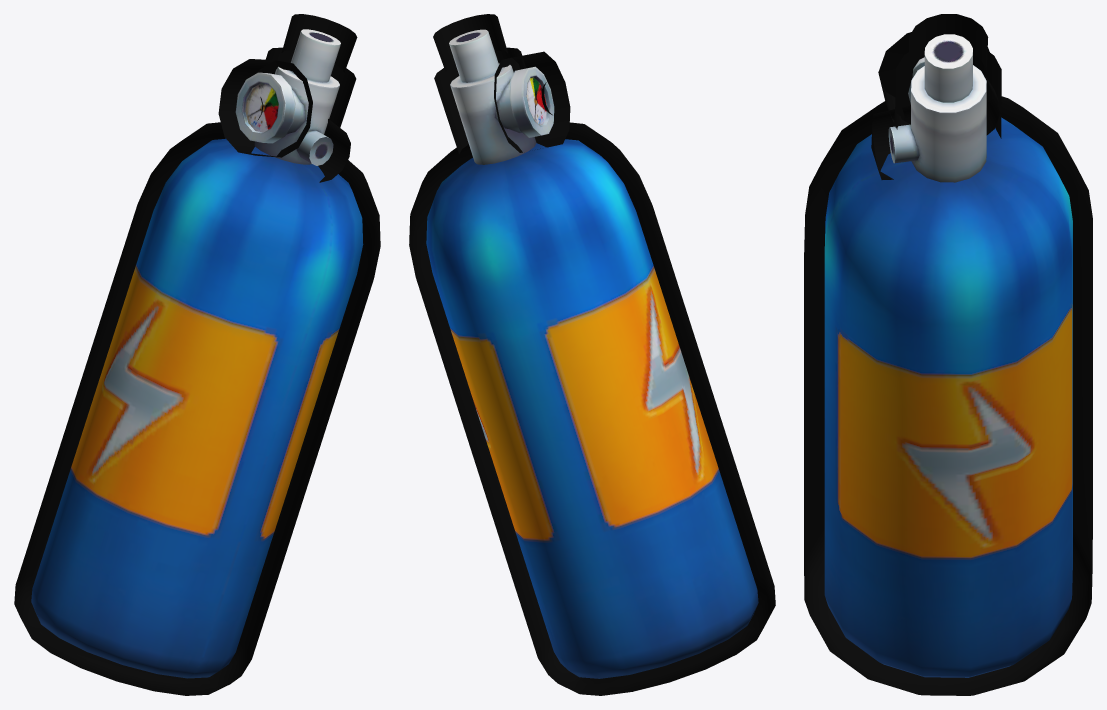
File: boost can (1).fbx
3 views of the same model, side by side, from view 1: azimuth 30°, elevation 25°; view 2: azimuth 150°, elevation 25°; view 3: azimuth 270°, elevation 25° (orthographic). The views are drawn at different scales.
Parts seen in each view (by area): view 1: OT_Boost_Mesh_OT_Boost_MAT_0, Pickup_Boost_PFXOutline_MESH_Pickup_PFXOutline_MAT_0; view 2: OT_Boost_Mesh_OT_Boost_MAT_0, Pickup_Boost_PFXOutline_MESH_Pickup_PFXOutline_MAT_0; view 3: OT_Boost_Mesh_OT_Boost_MAT_0, Pickup_Boost_PFXOutline_MESH_Pickup_PFXOutline_MAT_0.
Part boxes in pixels (bbox=[...]): OT_Boost_Mesh_OT_Boost_MAT_0: bbox=[31, 29, 363, 678]; Pickup_Boost_PFXOutline_MESH_Pickup_PFXOutline_MAT_0: bbox=[14, 14, 380, 695]; OT_Boost_Mesh_OT_Boost_MAT_0: bbox=[426, 29, 758, 678]; Pickup_Boost_PFXOutline_MESH_Pickup_PFXOutline_MAT_0: bbox=[409, 14, 775, 695]; OT_Boost_Mesh_OT_Boost_MAT_0: bbox=[824, 34, 1072, 677]; Pickup_Boost_PFXOutline_MESH_Pickup_PFXOutline_MAT_0: bbox=[804, 14, 1092, 695].
Size of the model in its own units: 2.26 by 4.07 by 1.45.
Materials: 2 (1 with a texture image).
